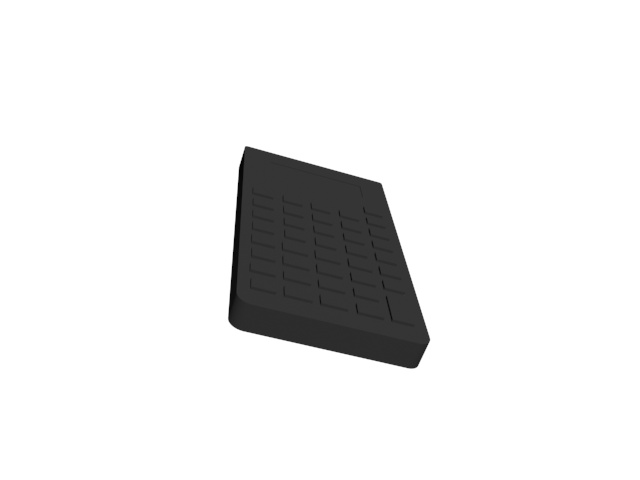calculator: (225, 145, 432, 376)
